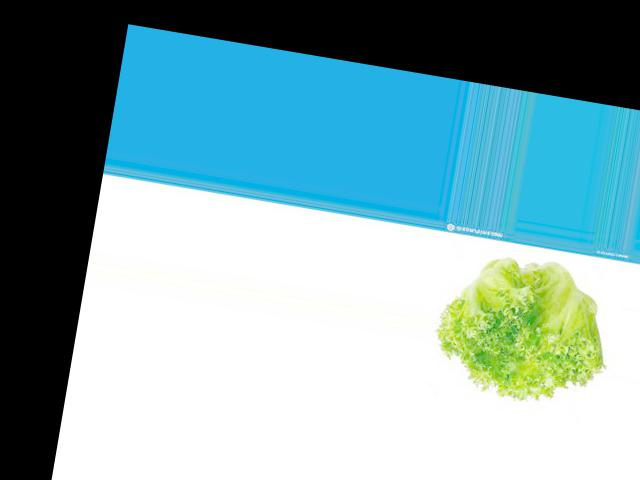lettuce: (436, 244, 607, 406)
